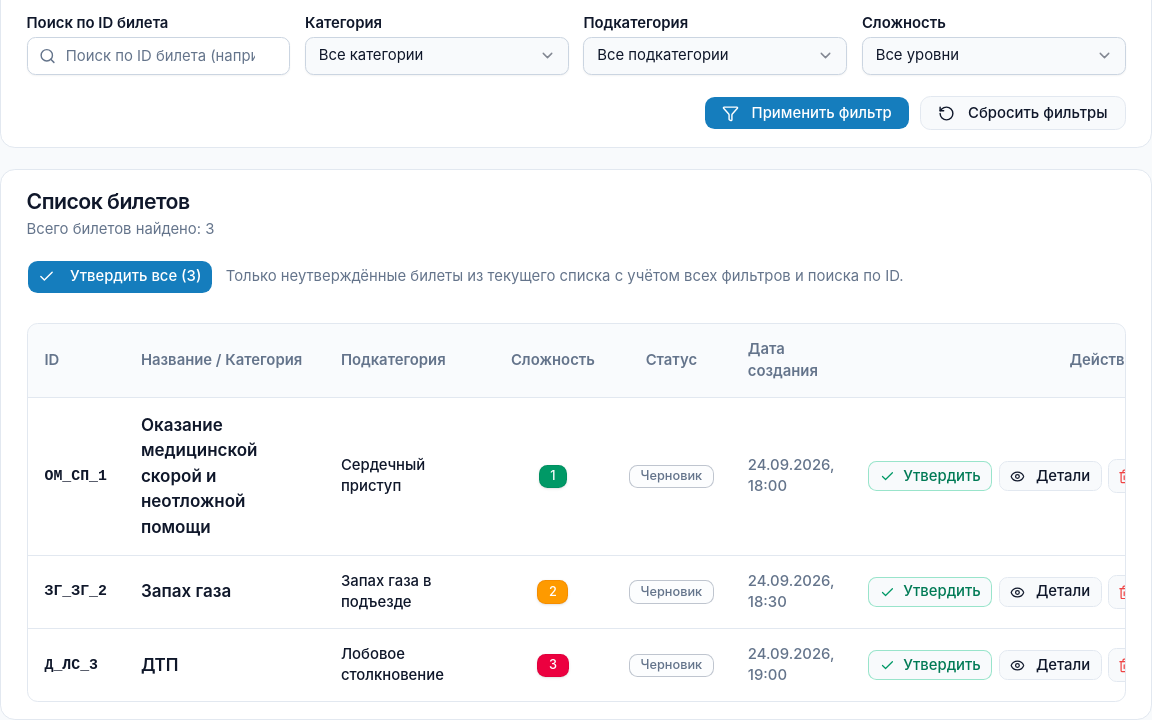
Scenario: 27.2 / ТЗ 30: База билетов и генерация › ТЗ 36.2: should NOT render factoids block in details modal
(page scrolled)
Expected: the table shows "Запах газа", [141, 581, 231, 601]
Open details
Click the button "Детали" in the row of "ЗГ_ЗГ_2".
click(1050, 592)  # box [999, 577, 1102, 607]
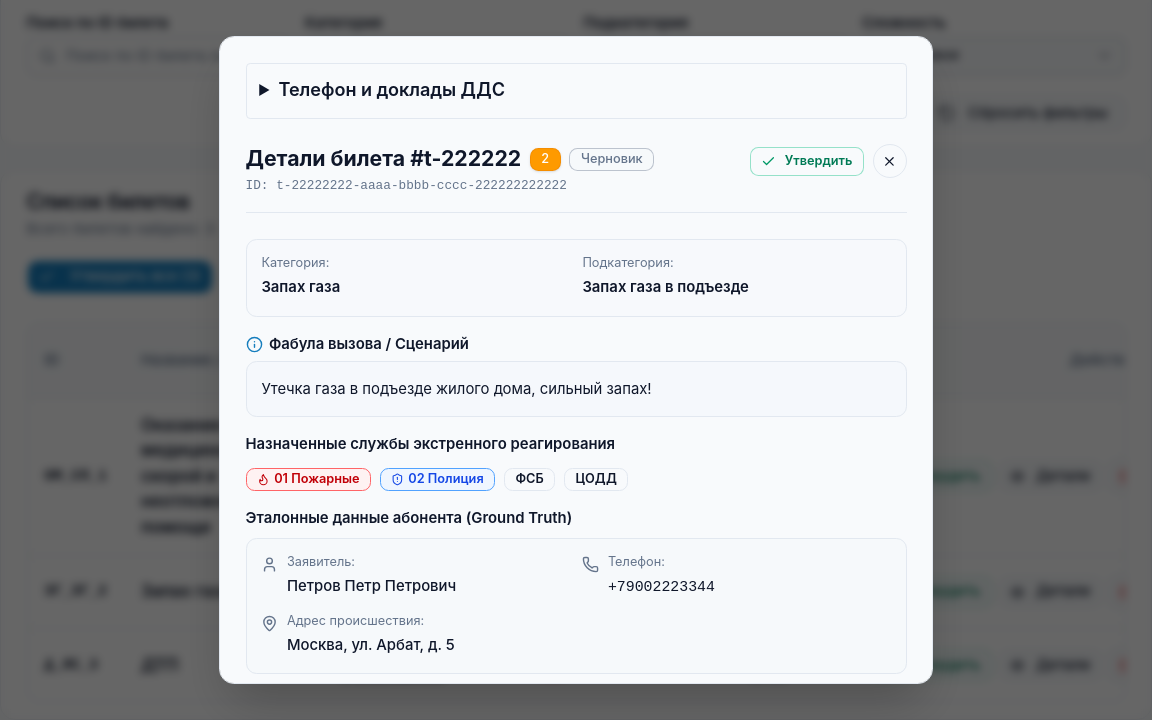
Expected: the dialog is shown
